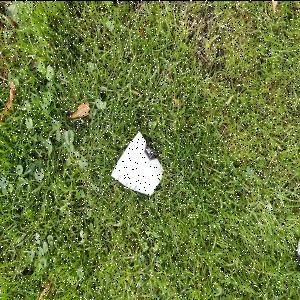Cup: (109, 126, 167, 200)
